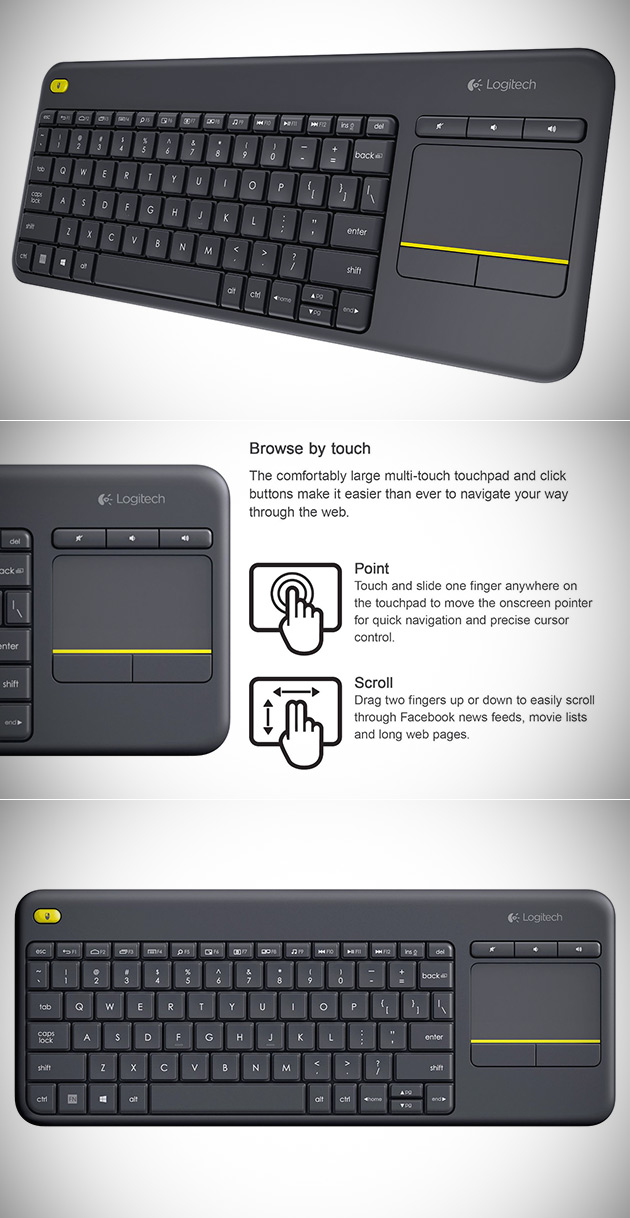logitech-keyboard-k400: (1, 37, 624, 390)
